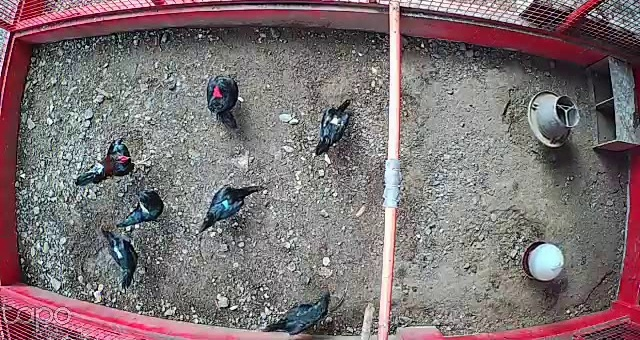Chicken: (196, 177, 267, 235), (261, 287, 331, 338), (98, 220, 144, 296), (116, 184, 173, 229), (205, 71, 245, 133), (314, 96, 355, 155)
Rooster: (74, 132, 153, 189)
Saddle_Color_Blue: (222, 198, 230, 208)
Saddle_Color_Red: (213, 85, 223, 98)
Saddle_Color_White: (113, 246, 124, 260)
Saddle_Color_Yellow: (327, 116, 346, 126)
